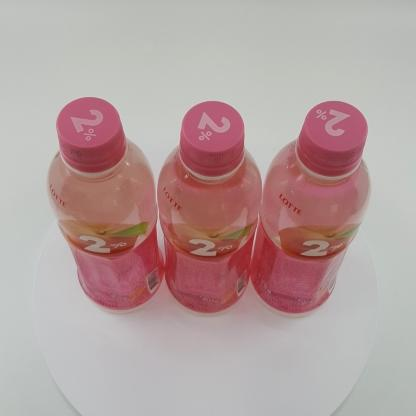--2_---350ML: (250, 101, 372, 318), (46, 96, 165, 314), (156, 100, 263, 317)
